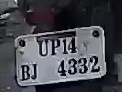1: (62, 37, 68, 55)
2: (88, 55, 101, 74)
3: (66, 57, 78, 77), (78, 56, 88, 75)
4: (67, 37, 79, 55), (57, 59, 67, 78)
B: (18, 62, 30, 80)
J: (30, 62, 40, 80)
P: (50, 36, 60, 56)
U: (36, 38, 49, 56)
